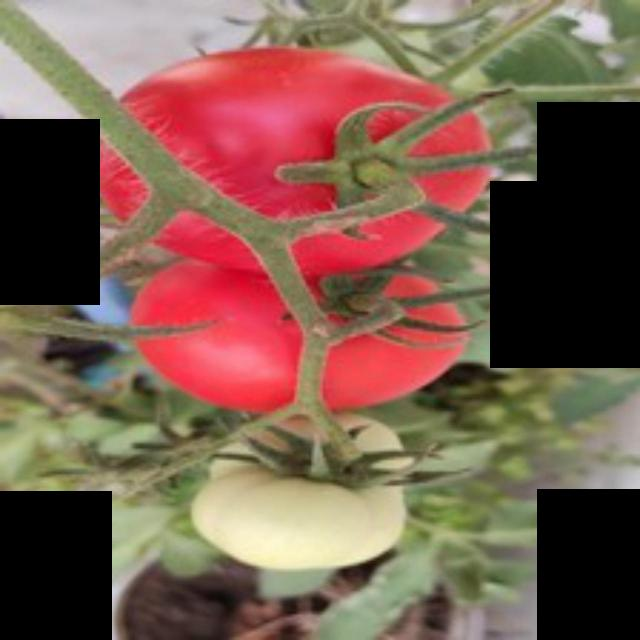tomato: (97, 36, 501, 275)
